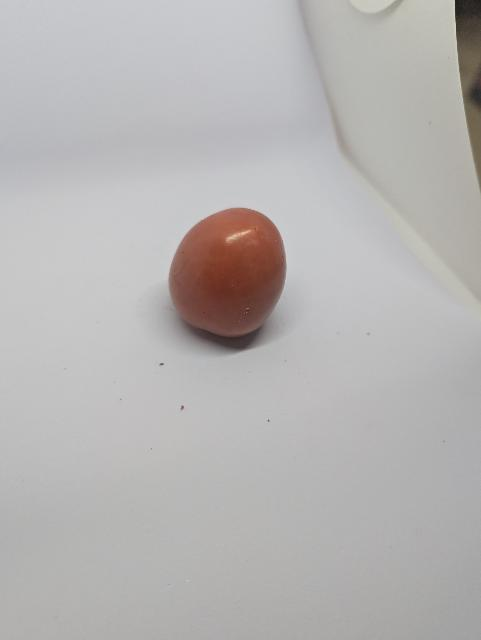red: (167, 206, 289, 339)
